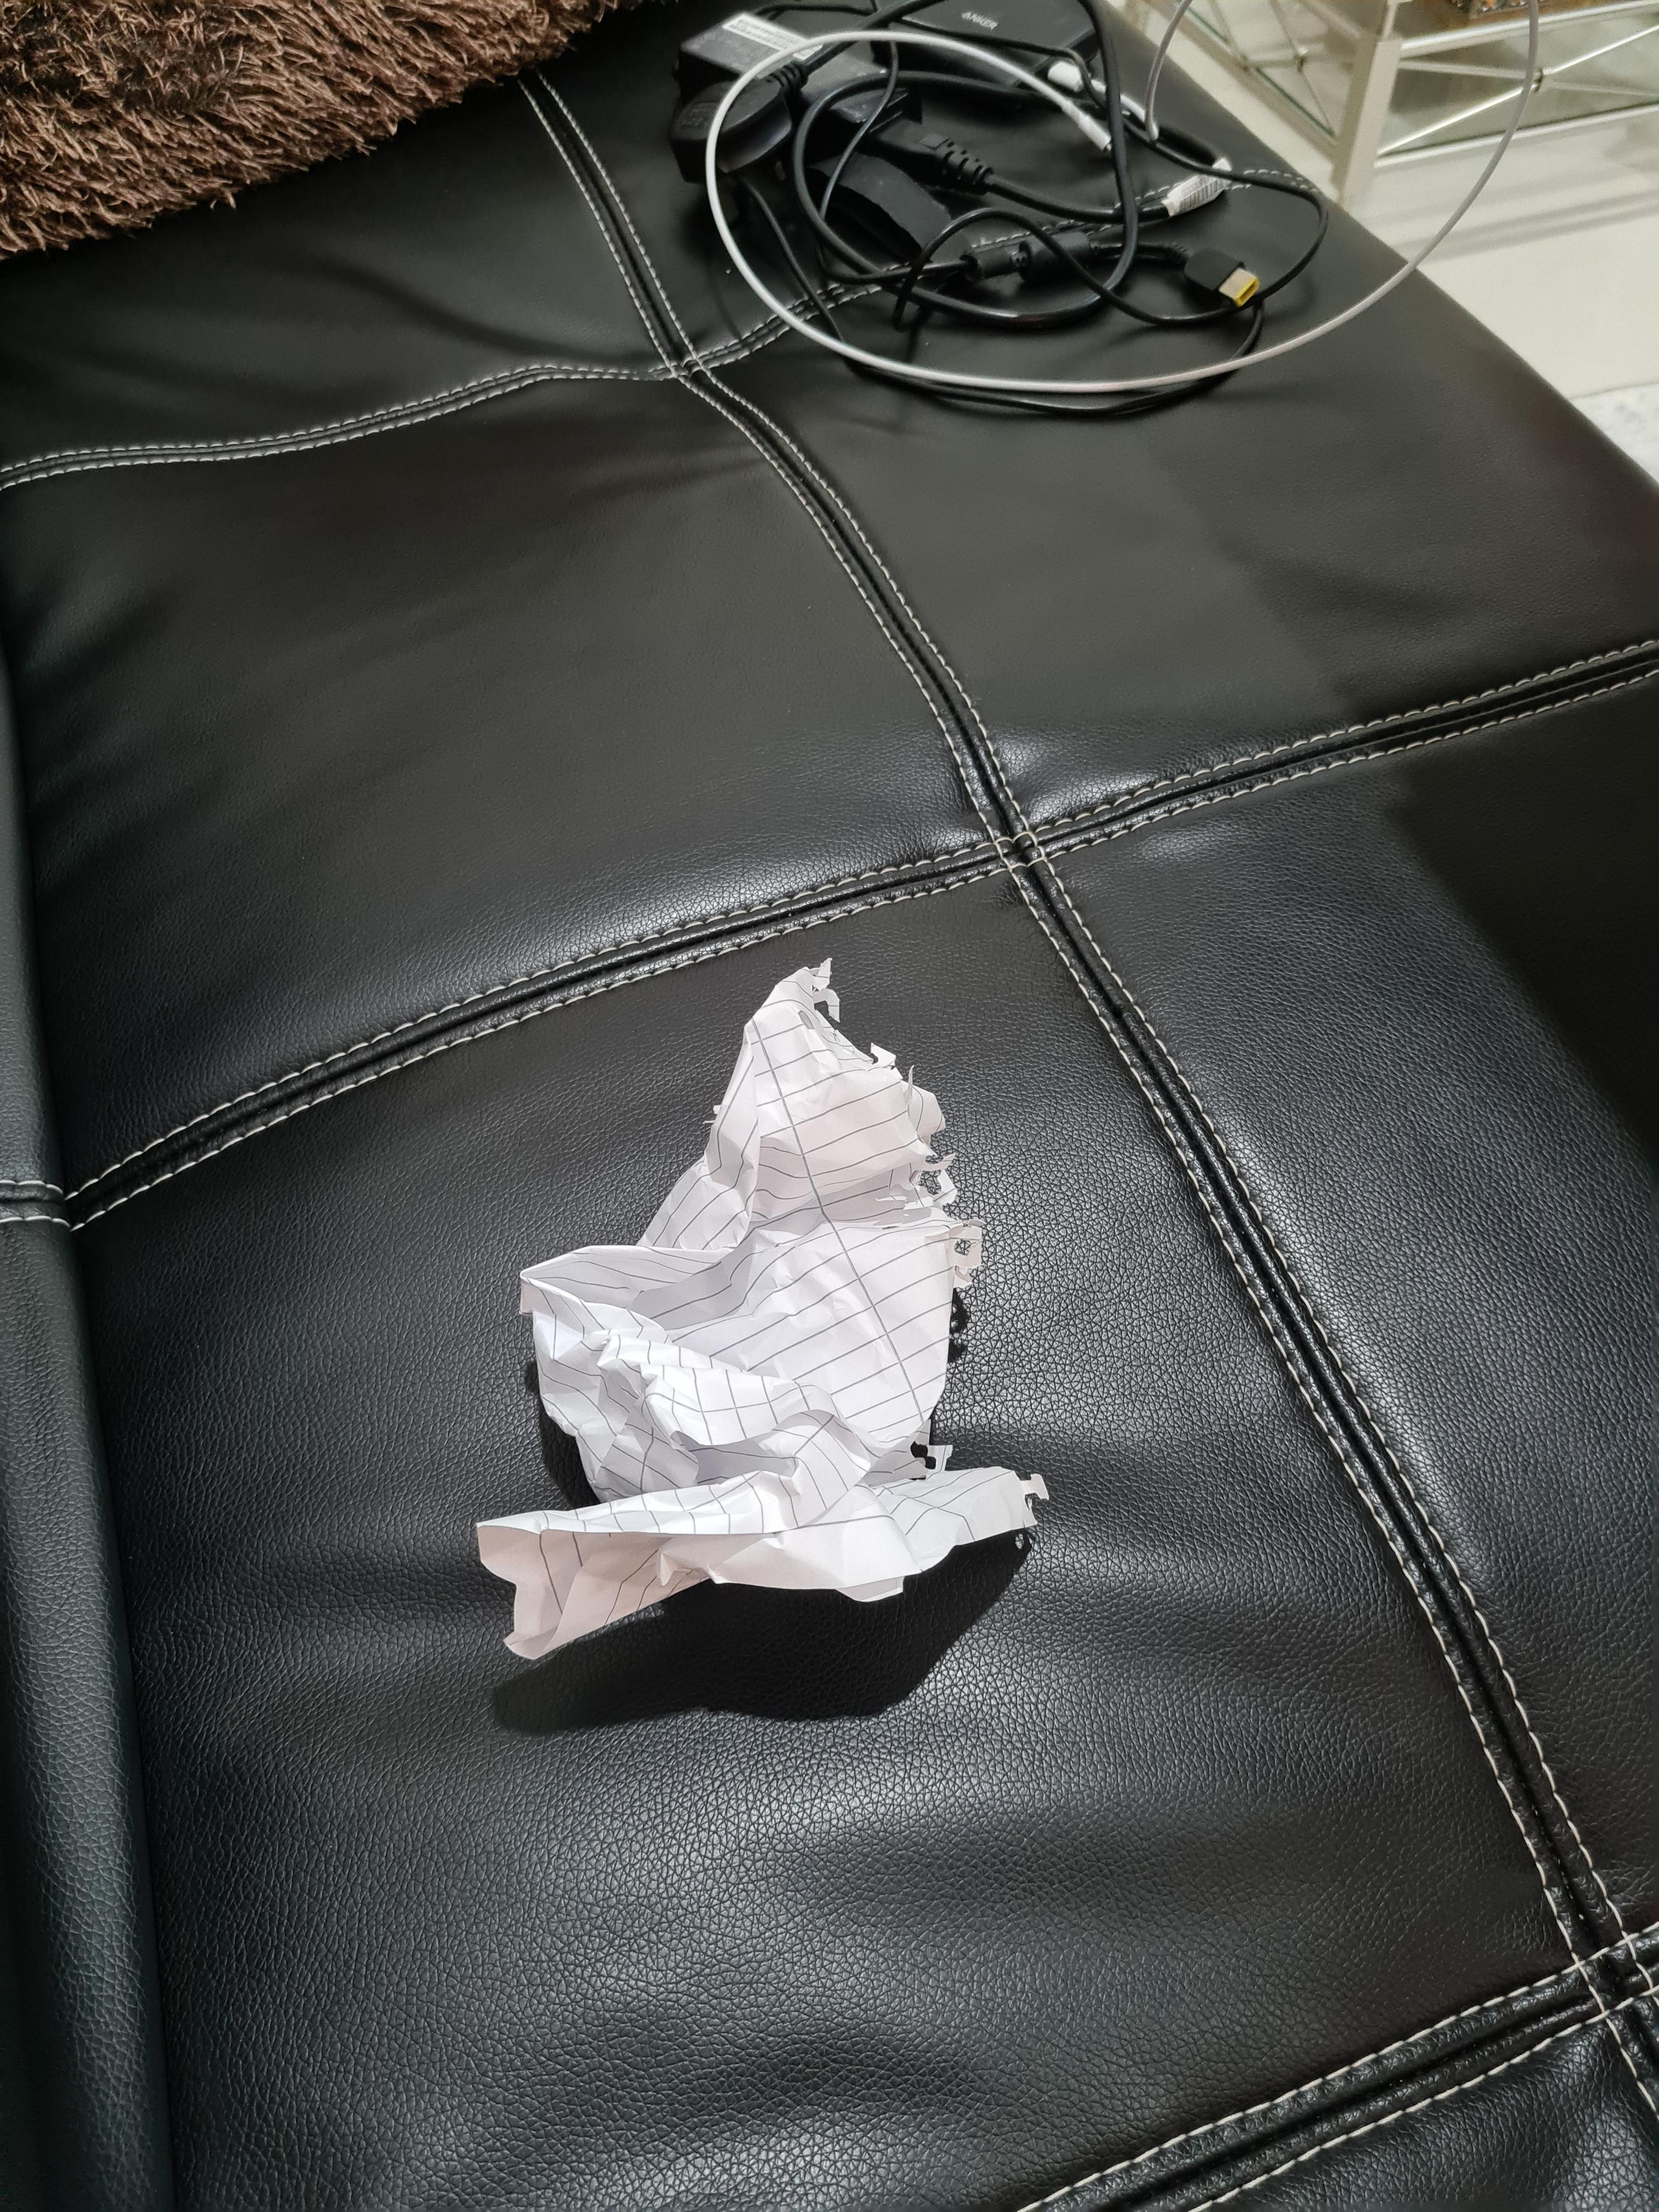Paper: (462, 1000, 1001, 1664)
